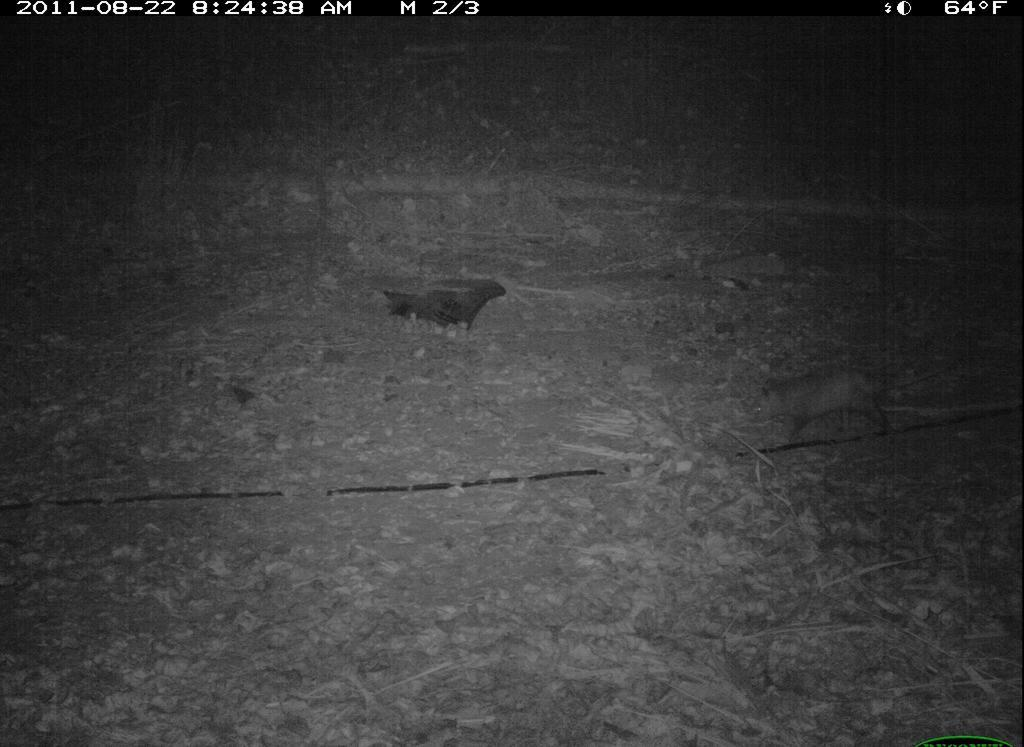opossum: (738, 342, 935, 447)
